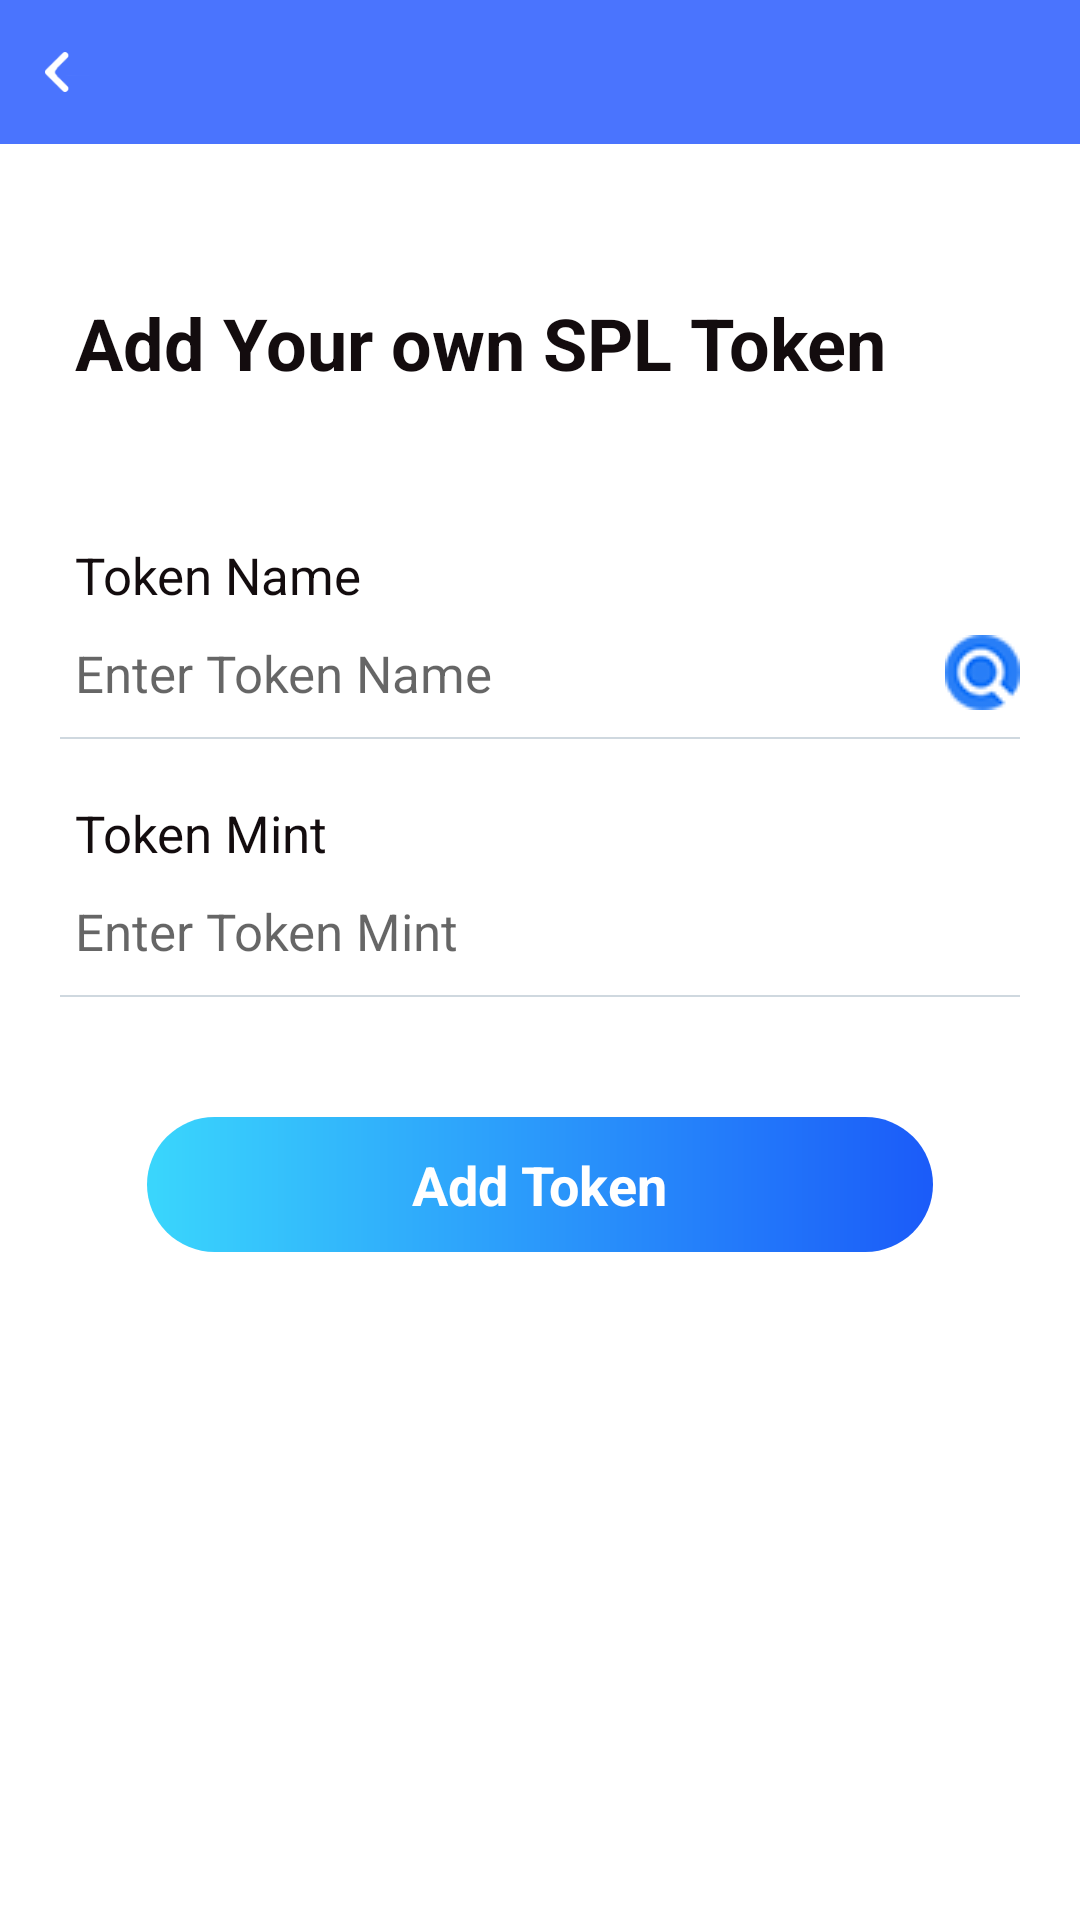

Icons on this 1080×1920 Android screen, each with the point to tap as point (x, y):
back: point (57, 72)
search strong: point (982, 672)
